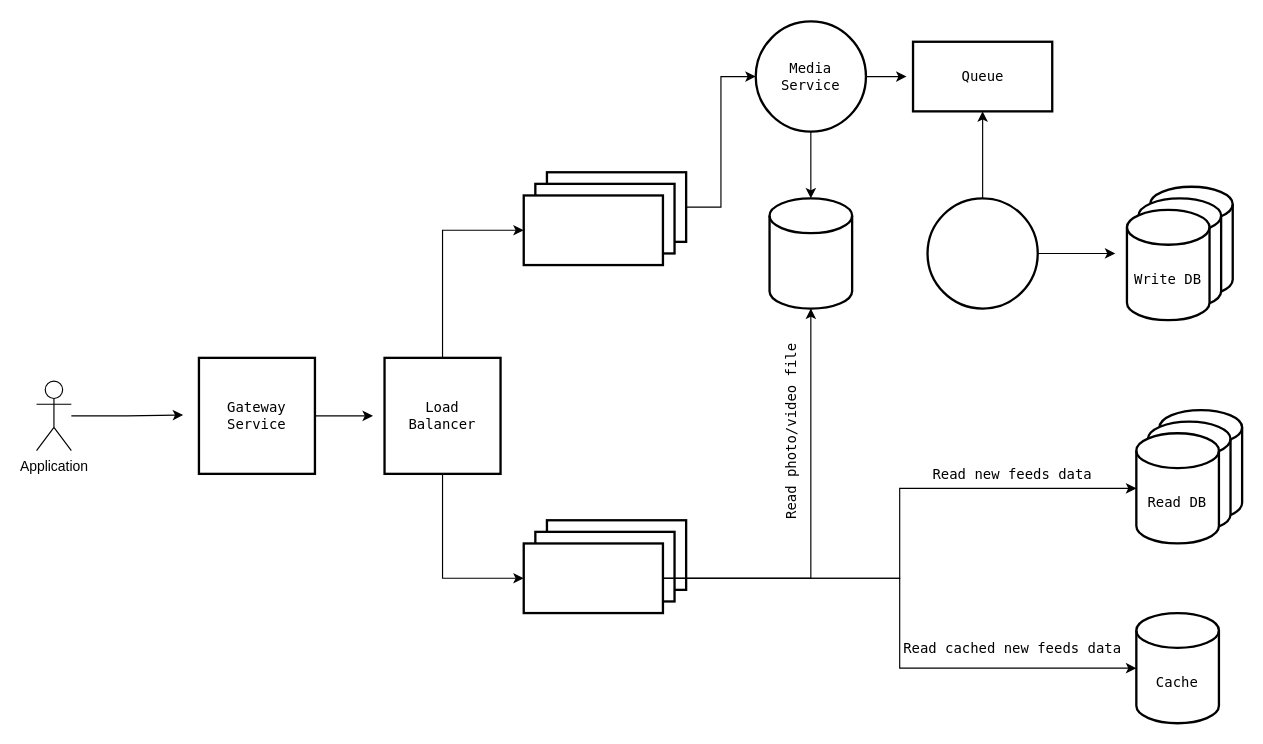
Some shapes in this 1263 by 744 pixel diagram are drawn without their labels. Each missing label, with the box of its shape:
Batch Event Service: (926, 197, 1038, 309)
Blob Storage: (768, 197, 853, 309)
Read API: (522, 542, 664, 614)
Write API: (522, 194, 664, 266)
